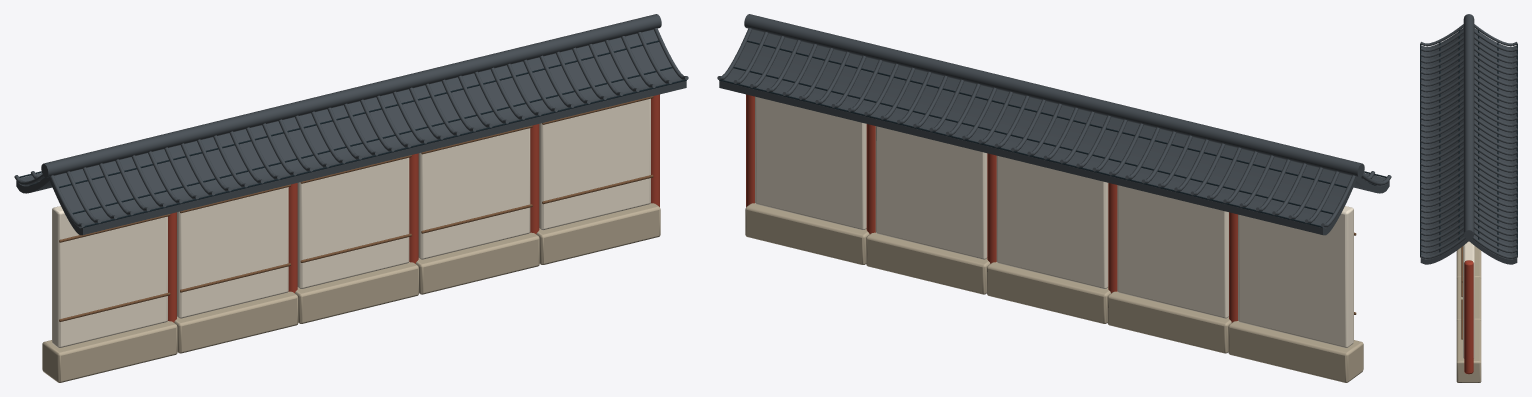
The model's file is garden_wall.glb.
3 renders of one model, left to right at view 1: azimuth 30°, elevation 25°; view 2: azimuth 150°, elevation 25°; view 3: azimuth 270°, elevation 25°, orthographic. The views are drawn at different scales.
Visible parts, largest first — view 1: Detail.garden_wall.Ivory, Detail.garden_wall.Tile, Detail.garden_wall.Stone, Detail.garden_wall.Red, Detail.garden_wall.Wood, Detail.garden_wall.Dark; view 2: Detail.garden_wall.Ivory, Detail.garden_wall.Tile, Detail.garden_wall.Stone, Detail.garden_wall.Red, Detail.garden_wall.Dark; view 3: Detail.garden_wall.Tile, Detail.garden_wall.Stone, Detail.garden_wall.Dark, Detail.garden_wall.Red, Detail.garden_wall.Ivory, Detail.garden_wall.Wood.
Part boxes in pixels (x1,y1,x2,y2): Detail.garden_wall.Ivory: (52, 98, 650, 347); Detail.garden_wall.Tile: (14, 14, 688, 235); Detail.garden_wall.Stone: (42, 203, 660, 382); Detail.garden_wall.Red: (168, 94, 659, 322); Detail.garden_wall.Wood: (59, 96, 653, 321); Detail.garden_wall.Dark: (19, 40, 686, 227); Detail.garden_wall.Ivory: (755, 96, 1353, 347); Detail.garden_wall.Tile: (717, 14, 1391, 235); Detail.garden_wall.Stone: (745, 203, 1363, 382); Detail.garden_wall.Red: (746, 94, 1237, 322); Detail.garden_wall.Dark: (719, 40, 1386, 227); Detail.garden_wall.Tile: (1420, 14, 1517, 264); Detail.garden_wall.Stone: (1456, 246, 1481, 382); Detail.garden_wall.Dark: (1420, 30, 1517, 257); Detail.garden_wall.Red: (1464, 260, 1473, 374); Detail.garden_wall.Ivory: (1463, 241, 1474, 358); Detail.garden_wall.Wood: (1461, 246, 1462, 339).
Size of the model in its own units: 12.72 by 4.26 by 2.43.
